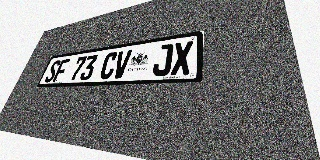3: (79, 54, 98, 81)
7: (68, 56, 87, 81)
C: (98, 51, 119, 79)
F: (52, 59, 70, 82)
J: (152, 43, 174, 76)
S: (44, 60, 62, 83)
V: (111, 49, 132, 79)
X: (170, 41, 193, 75)
